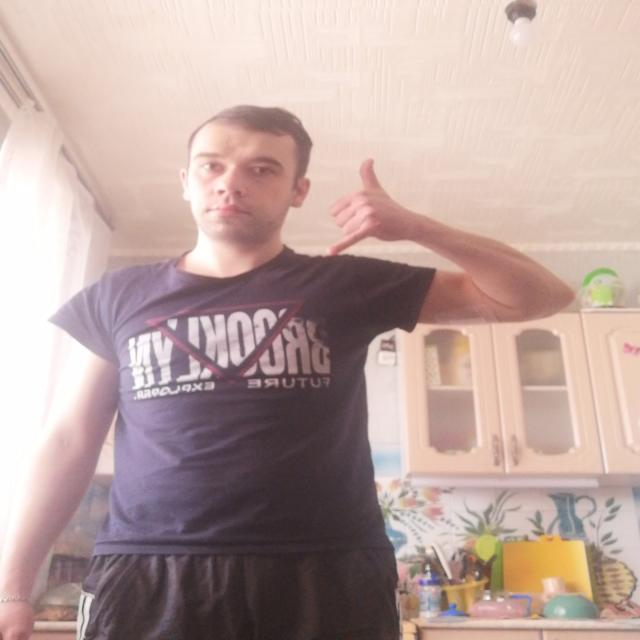call: (325, 157, 412, 257)
